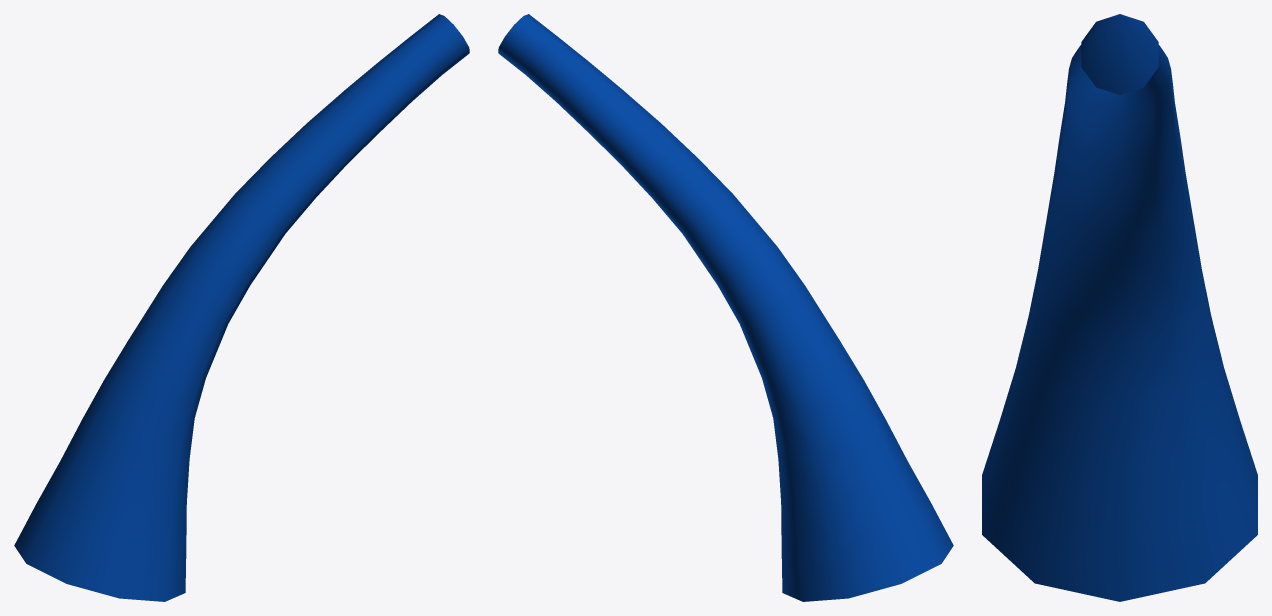
Rendered from WaterfallSmall.fbx.
3 renders of one model, left to right at view 1: azimuth 30°, elevation 25°; view 2: azimuth 150°, elevation 25°; view 3: azimuth 270°, elevation 25°, orthographic. The views are drawn at different scales.
Visible parts, largest first — view 1: SM_Waterfall_01; view 2: SM_Waterfall_01; view 3: SM_Waterfall_01.
Boxes of the visible parts, <box> form: SM_Waterfall_01: <box>14,14,469,601</box>; SM_Waterfall_01: <box>498,14,953,601</box>; SM_Waterfall_01: <box>982,14,1257,601</box>.
Size of the model in its own units: 515 by 554 by 172.
Materials: 1 (1 with a texture image).
